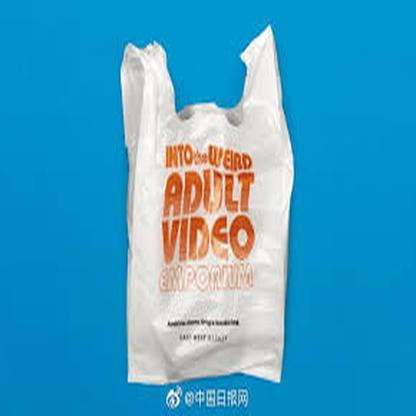plastic bag: (118, 21, 296, 383)
